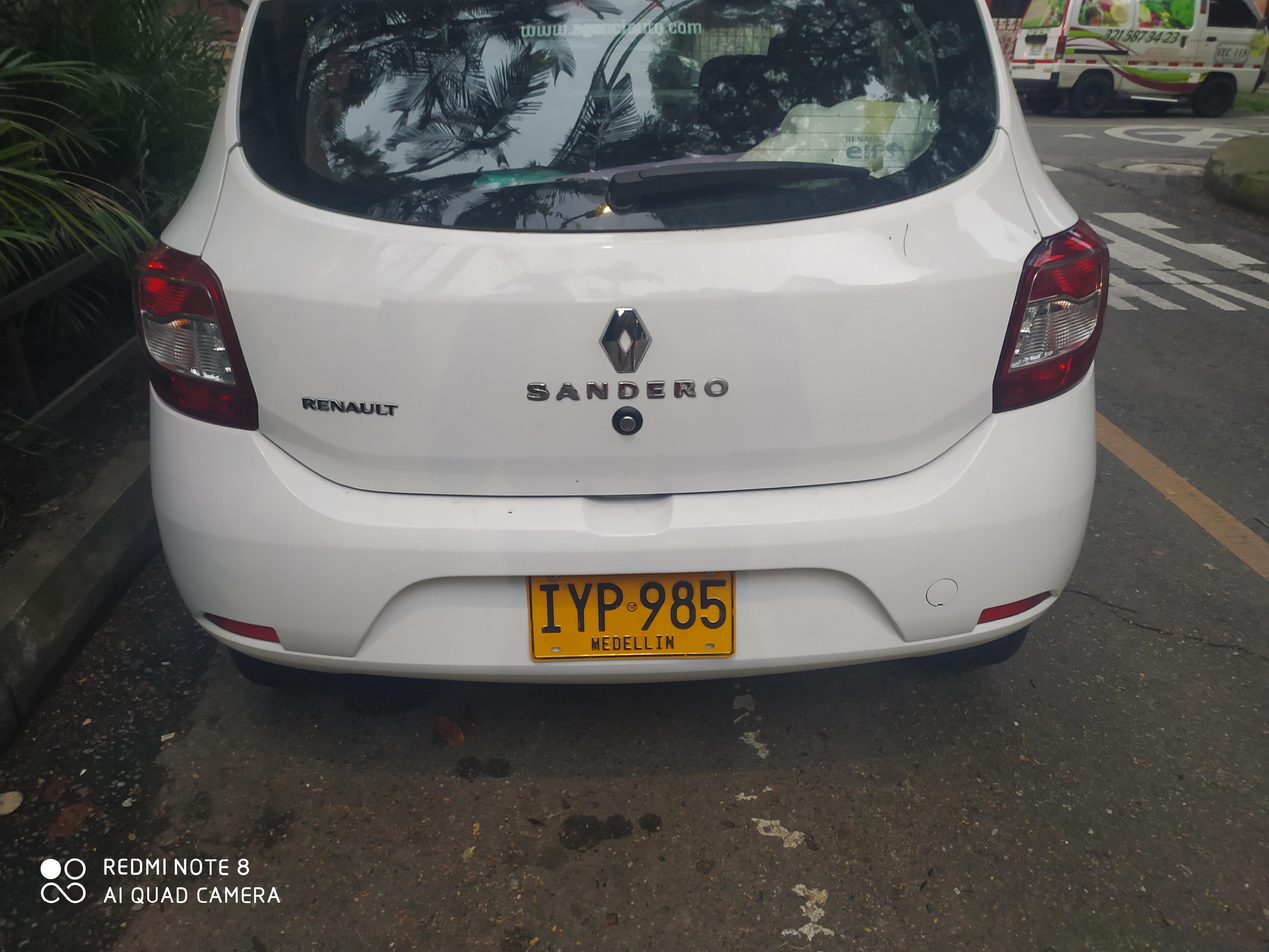placa: (520, 568, 745, 663)
